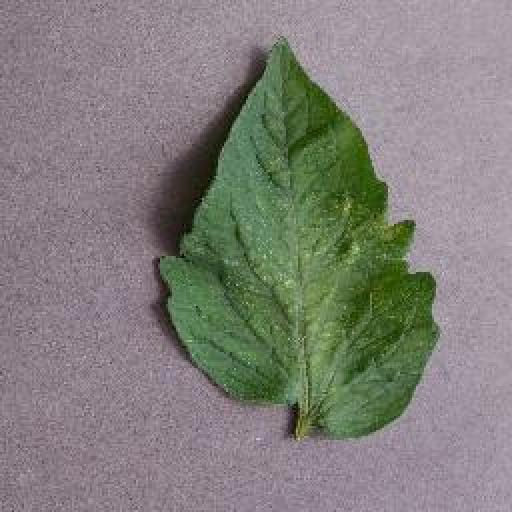disease_tomato: (157, 34, 443, 440)
